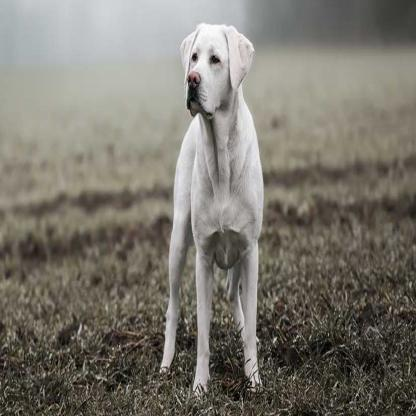dog: (160, 22, 264, 405)
